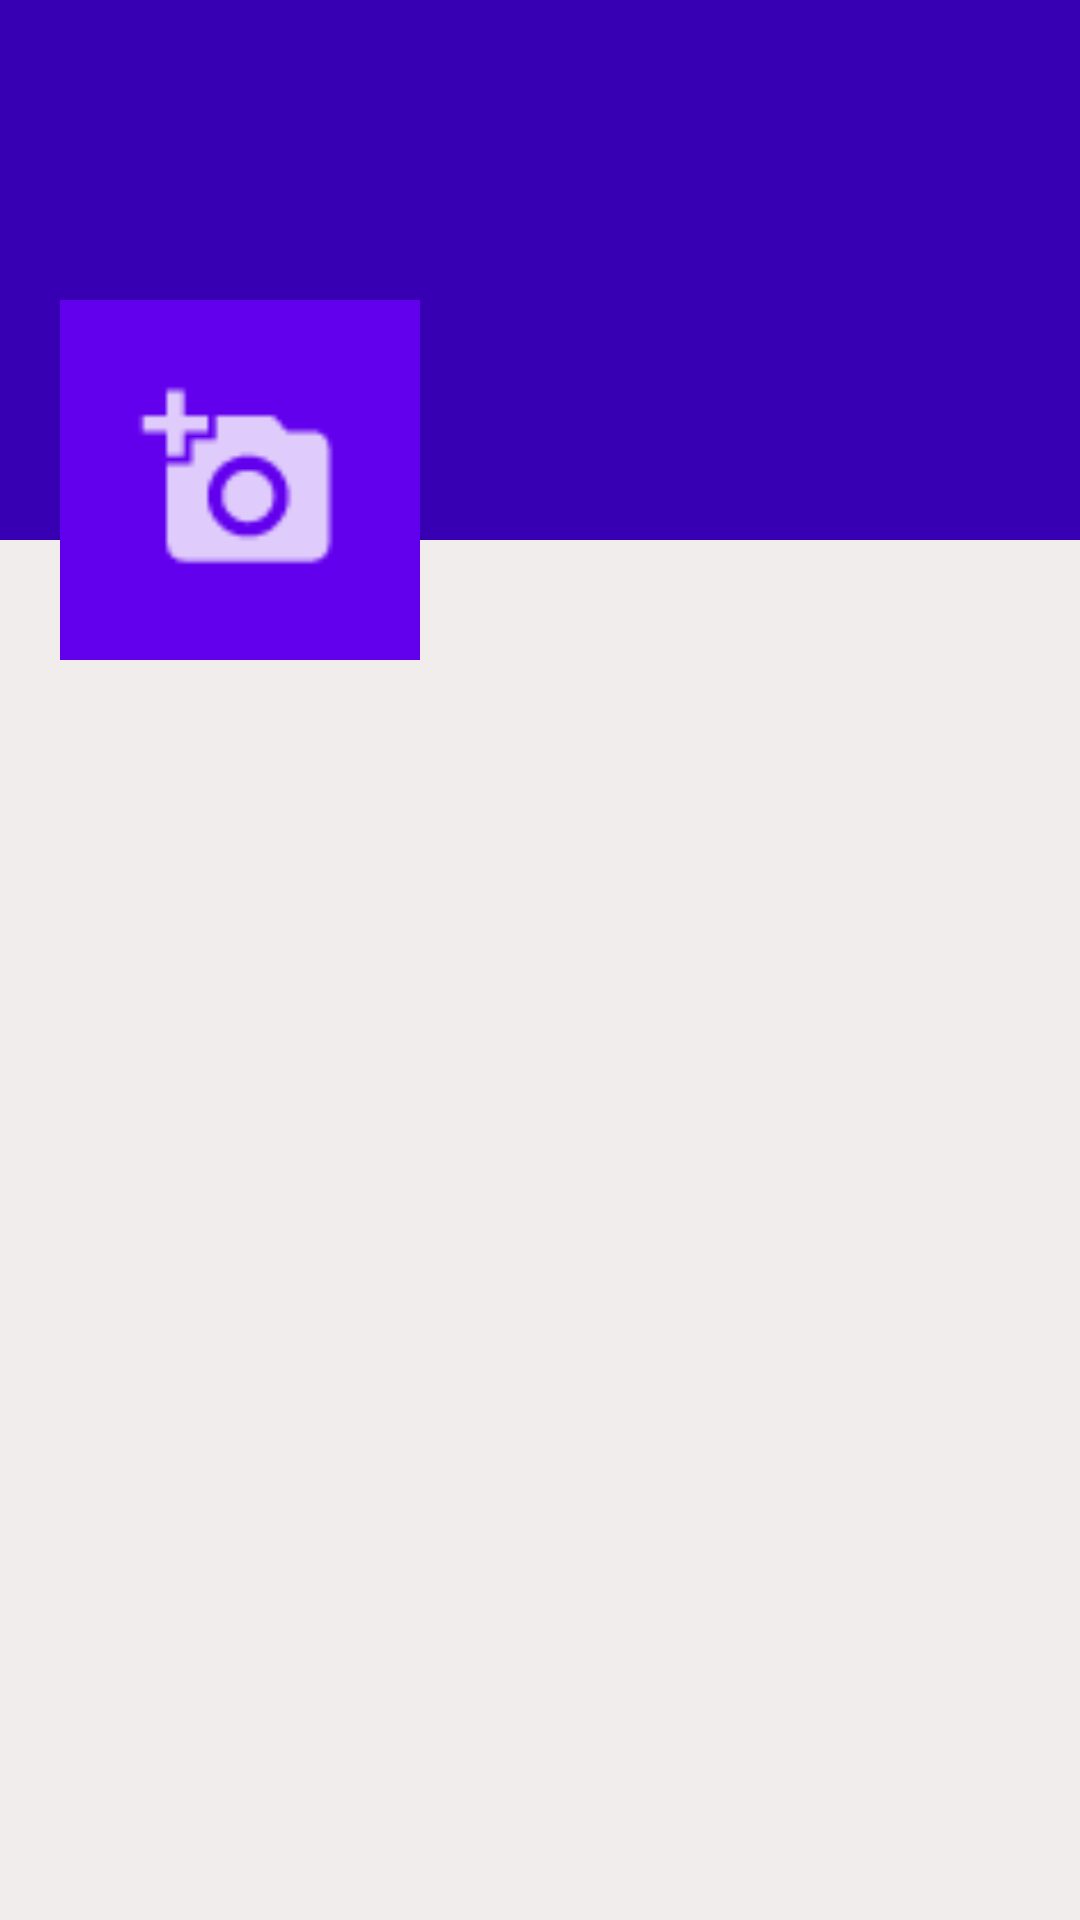

Icon click points for this 1080×1920 phone screenshot, format (x,y):
add: (240,480)
